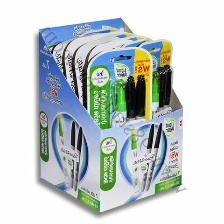book: (36, 16, 188, 215)
correction_fluid: (108, 77, 129, 187), (147, 70, 162, 174)
